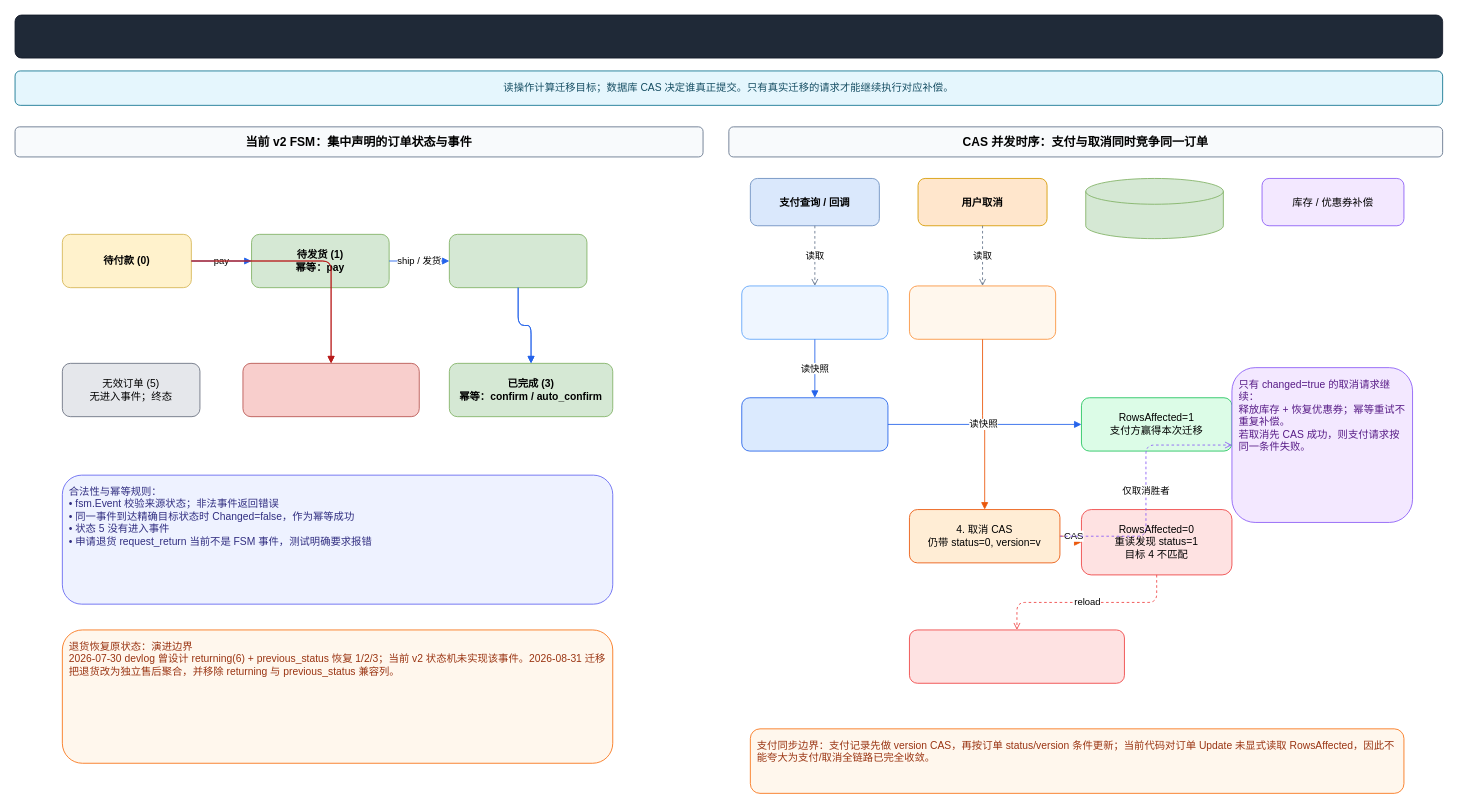
This 1458x808 diagram has some shape labels left out. The centre of each missing label's shape, as x and y in pixels:
"1. 读取 status=0, version=v" goes at point (814, 312).
"2. 读取 status=0, version=v" goes at point (982, 312).
"3. 支付 CAS 0 → 1；version=v+1" goes at point (814, 424).
"5. 返回 CodeOrderStatusVersionConflict 不执行取消补偿" goes at point (1016, 656).
"oms_order status + version" goes at point (1154, 208).
"已关闭 (4) 幂等：cancel / timeout_close" goes at point (330, 389).
"已发货 (2) 幂等：ship" goes at point (517, 260).
"订单状态机 + CAS 并发时序（当前代码核实；退货边界见橙色说明）" goes at point (728, 36).
